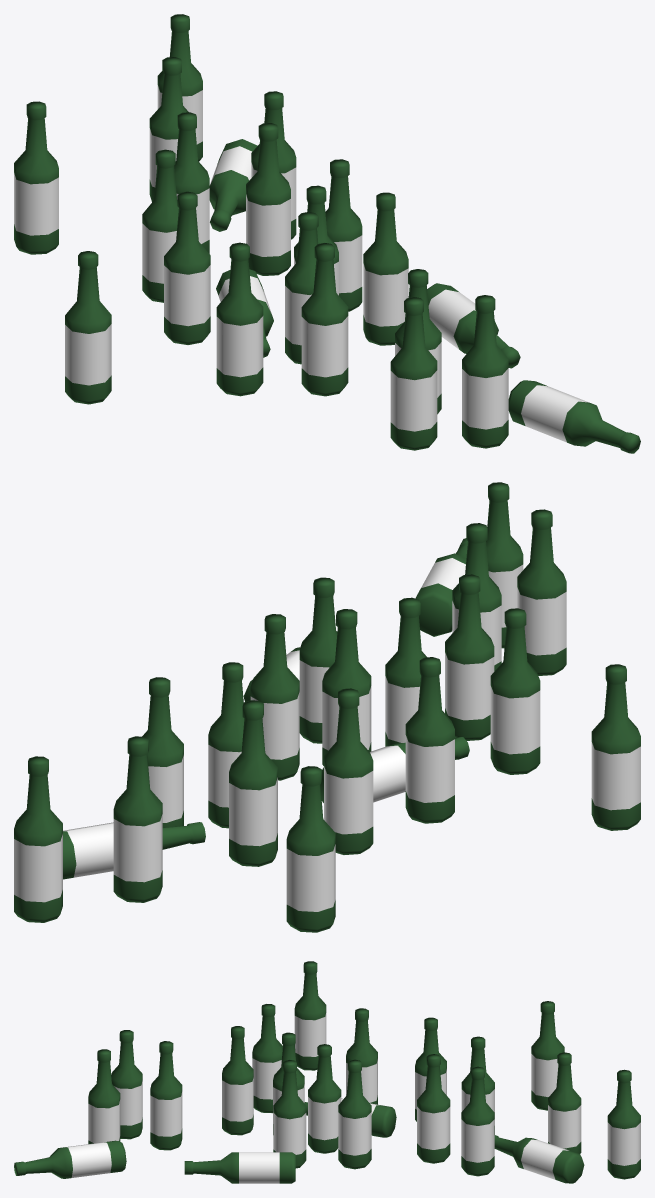
File: soju_geo.fbx
3 views of the same model, one above another, from view 1: azimuth 30°, elevation 25°; view 2: azimuth 150°, elevation 25°; view 3: azimuth 270°, elevation 25° (orthographic). The views are drawn at different scales.
Parts seen in each view (by area): view 1: soju_geo; view 2: soju_geo; view 3: soju_geo.
Boxes of the visible parts, x1=… form: soju_geo: x1=14, y1=14, x2=640, y2=453; soju_geo: x1=14, y1=482, x2=640, y2=932; soju_geo: x1=14, y1=961, x2=640, y2=1183.
Bounding box in the file's own units: 1.51 × 0.5497 × 3.06.
1 material, 1 textured.
